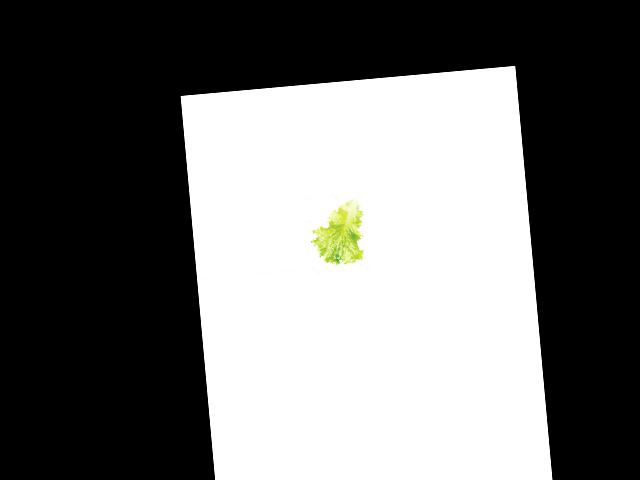lettuce: (308, 197, 365, 267)
